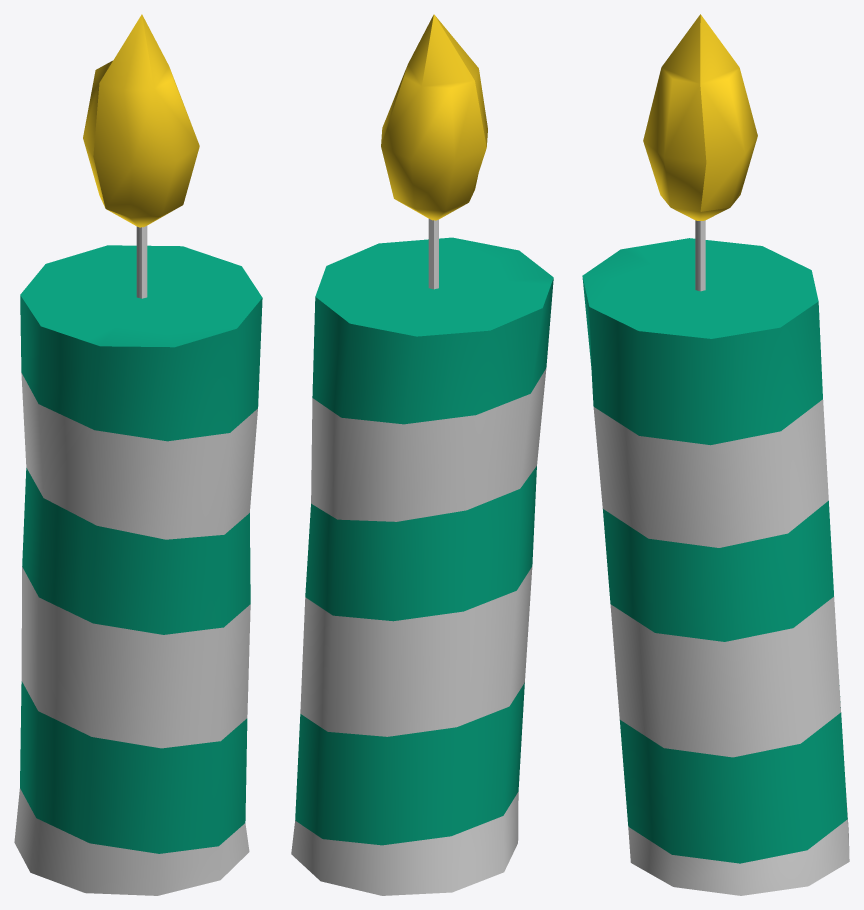
File: Light_2_Christmas.fbx
3 renders of one model, left to right at view 1: azimuth 30°, elevation 25°; view 2: azimuth 150°, elevation 25°; view 3: azimuth 270°, elevation 25°, orthographic. The views are drawn at different scales.
Parts seen in each view (by area): view 1: Light_2_Christmas; view 2: Light_2_Christmas; view 3: Light_2_Christmas.
Part boxes in pixels (<box>): Light_2_Christmas: <box>14,14,262,895</box>; Light_2_Christmas: <box>291,14,553,895</box>; Light_2_Christmas: <box>582,14,849,895</box>.
Bounding box in the file's own units: 68.29 × 253 × 74.01.
